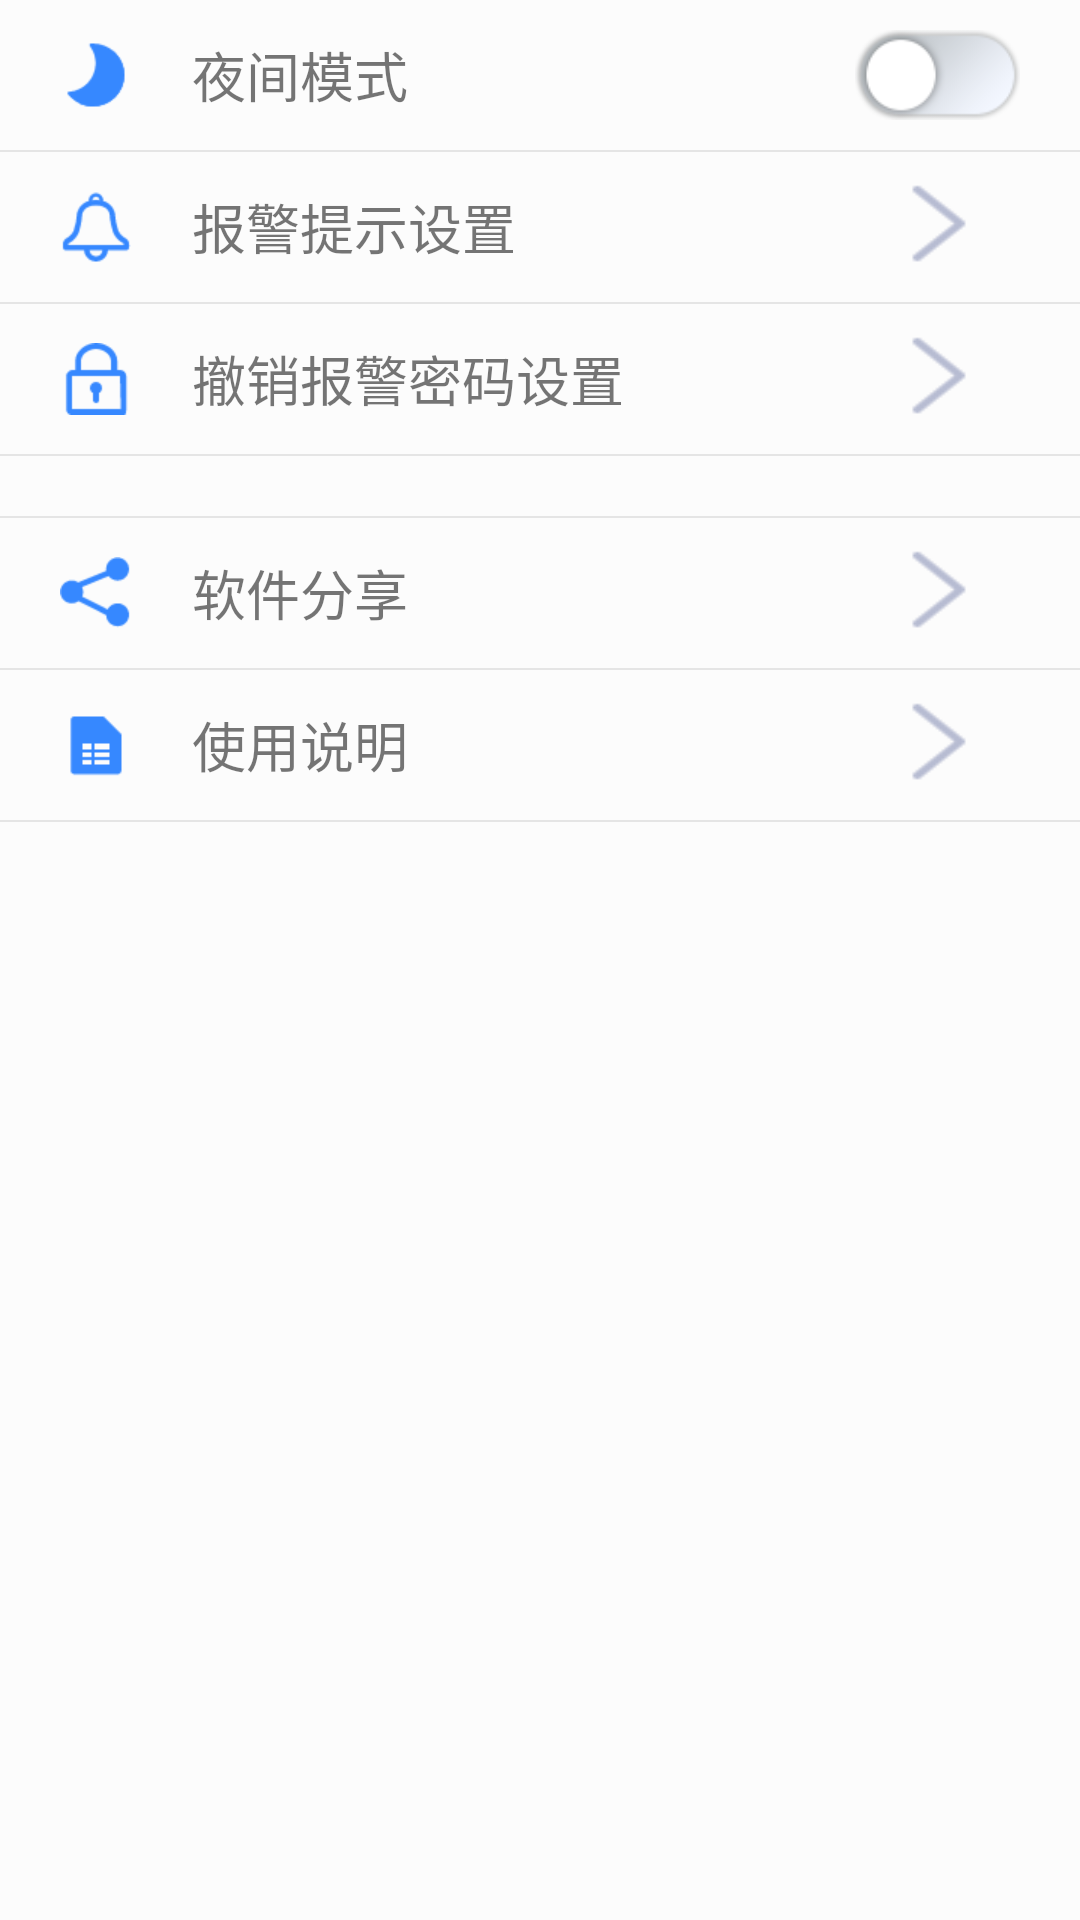

Icons on this 1080px x 1920px Android screen, each with its box as (x1, y1, x2, y2):
alarm: (62, 192, 130, 262)
description: (70, 716, 122, 775)
night: (67, 43, 125, 107)
password: (65, 343, 128, 415)
share: (60, 557, 130, 627)
